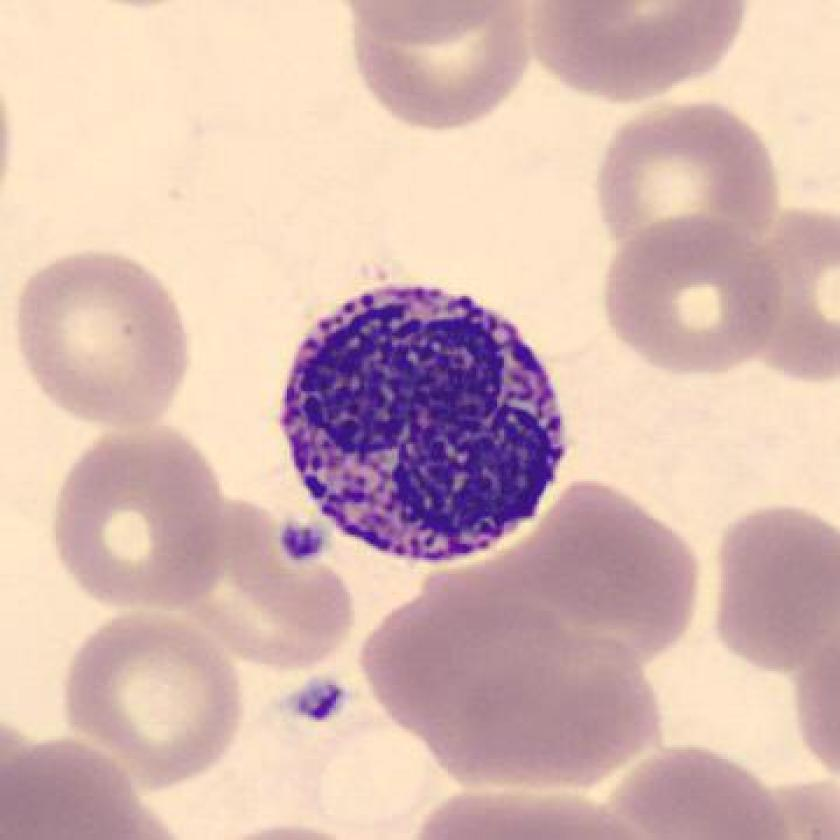basophil: (277, 276, 571, 566)
